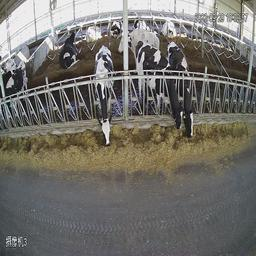cow: (135, 39, 181, 135), (92, 43, 119, 148), (183, 48, 193, 135), (61, 29, 80, 67), (109, 15, 124, 41), (160, 16, 179, 36), (85, 19, 101, 42), (133, 17, 150, 31)
